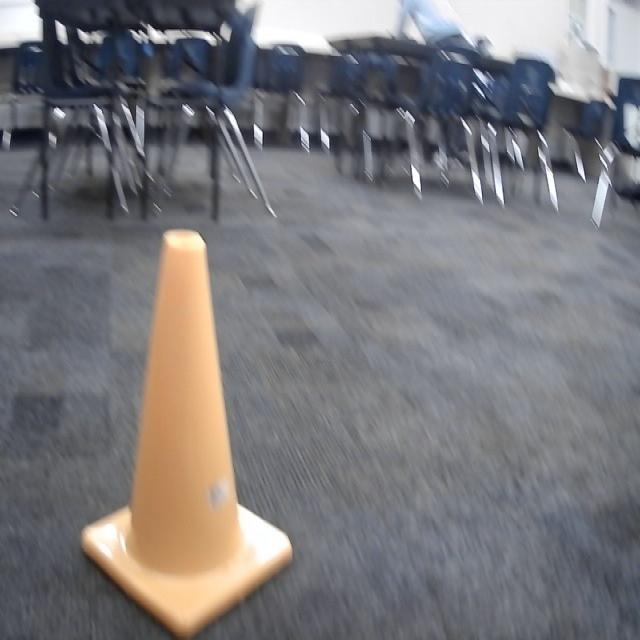cone: (77, 228, 294, 640)
